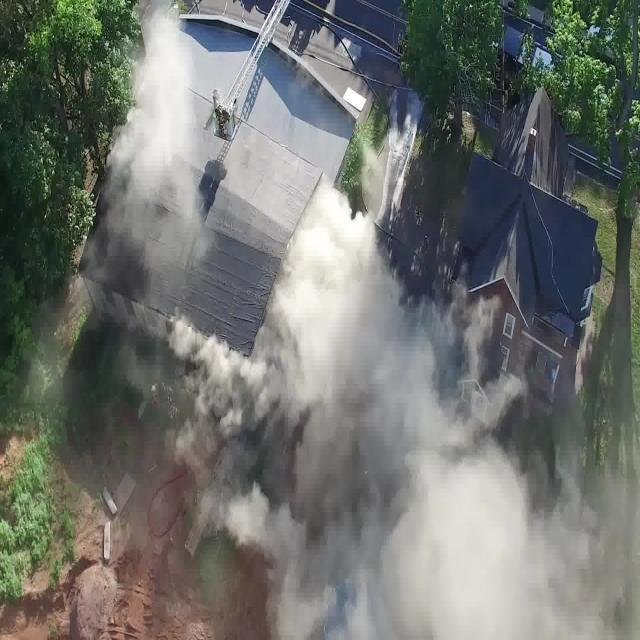Smoke: (169, 182, 633, 640), (113, 4, 215, 278)
